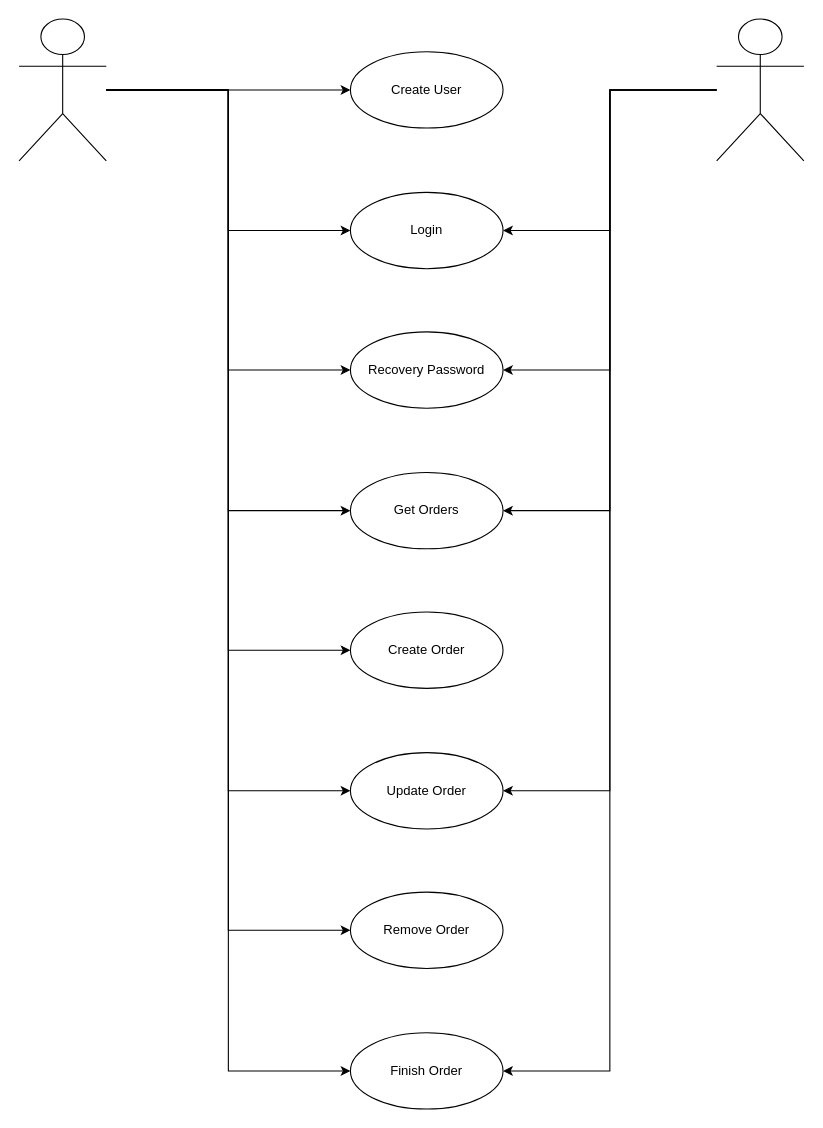
This 823x1128 diagram has some shape labels left out. Each missing label, with the centre of its shape:
Admin: point 62,89
Employee: point 760,89
